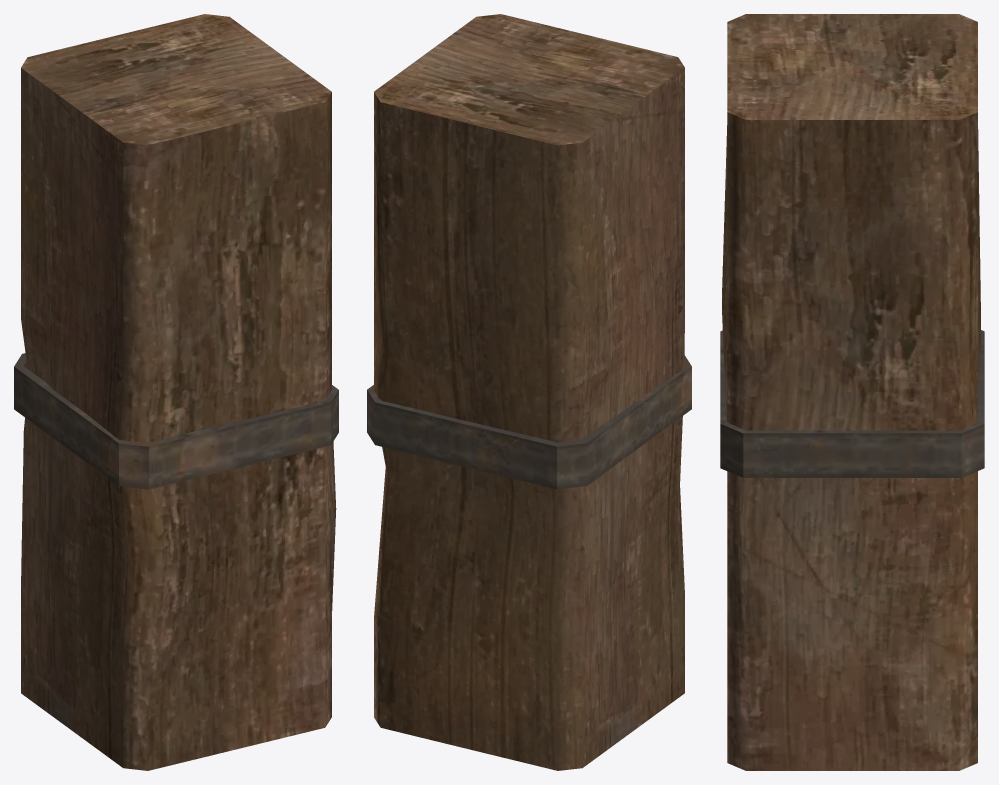
3 views of the same model, side by side, from view 1: azimuth 30°, elevation 25°; view 2: azimuth 150°, elevation 25°; view 3: azimuth 270°, elevation 25° (orthographic). The views are drawn at different scales.
Parts seen in each view (by area): view 1: SM_BB_T3_Extended_Beam_Thick_Med_Vertical_LOD0; view 2: SM_BB_T3_Extended_Beam_Thick_Med_Vertical_LOD0; view 3: SM_BB_T3_Extended_Beam_Thick_Med_Vertical_LOD0.
Boxes of the visible parts, x1,y1,x2,y2 form: SM_BB_T3_Extended_Beam_Thick_Med_Vertical_LOD0: (14, 14, 338, 770); SM_BB_T3_Extended_Beam_Thick_Med_Vertical_LOD0: (367, 14, 691, 770); SM_BB_T3_Extended_Beam_Thick_Med_Vertical_LOD0: (720, 14, 984, 770).
Size of the model in its own units: 0.5477 by 1.49 by 0.5477.
Materials: 2 (2 with a texture image).
